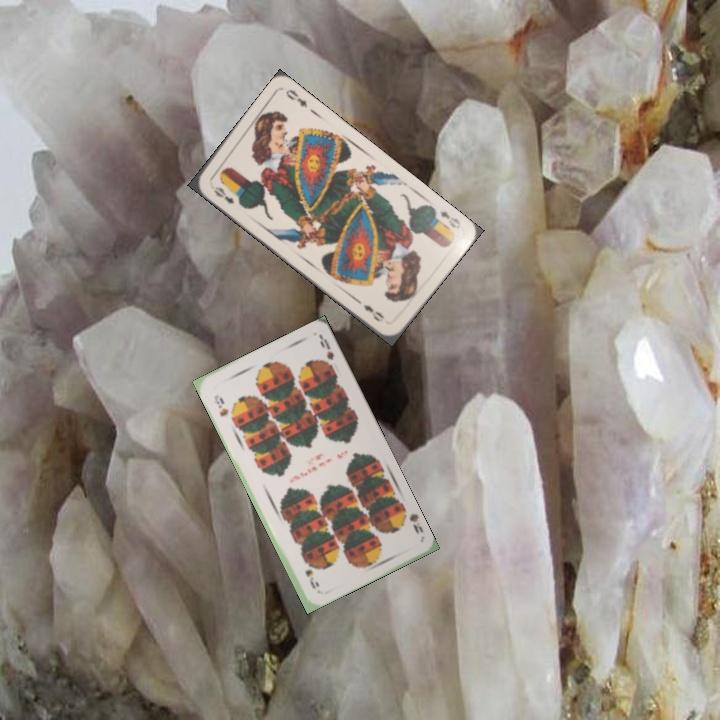EO: (209, 182, 237, 207), (436, 207, 463, 231)
S9: (395, 503, 426, 537), (209, 390, 231, 419)
